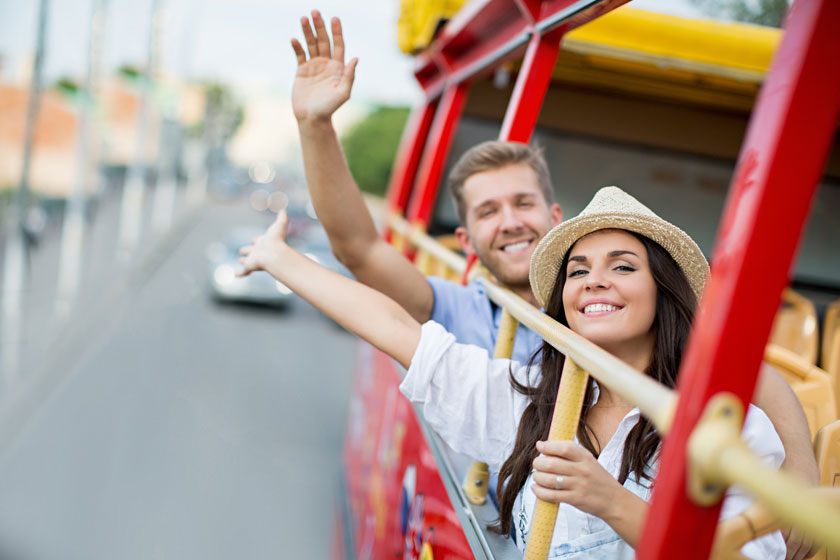no-phone: (274, 2, 371, 132), (520, 419, 631, 530), (224, 198, 308, 308)
